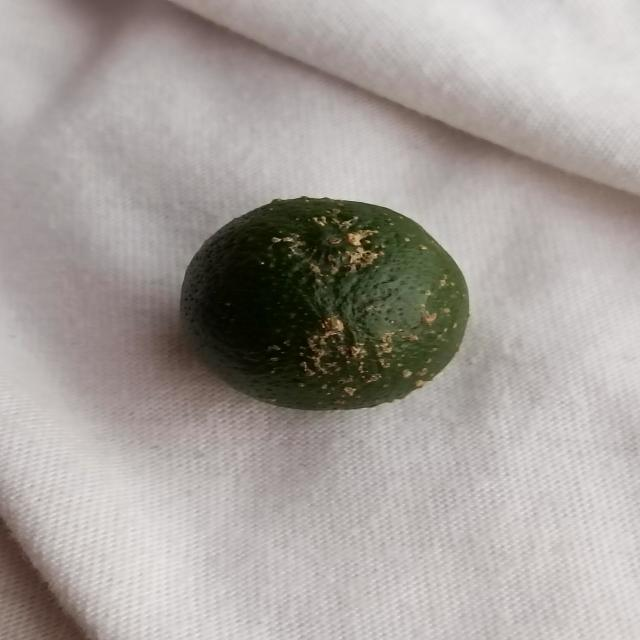scab: (185, 191, 468, 422)
